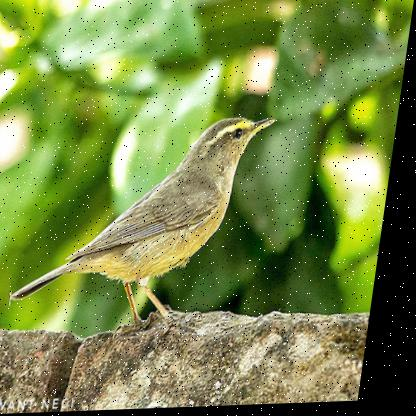Burung: (11, 117, 286, 332)
